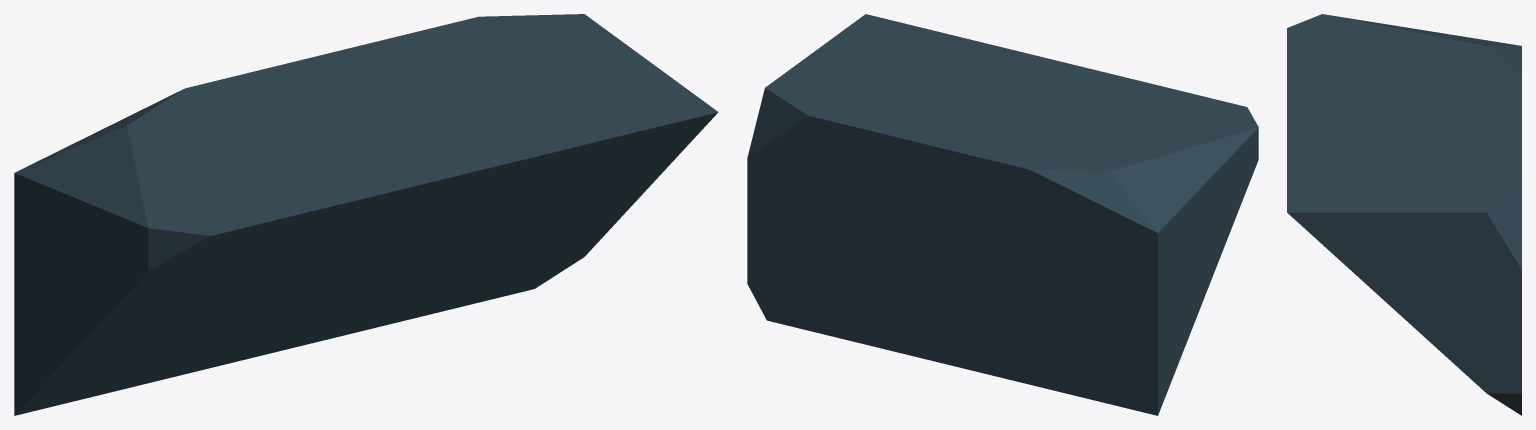
The model's file is ceiling_element_1x2.fbx.
The picture shows the model from 3 angles, left to right: view 1: azimuth 30°, elevation 25°; view 2: azimuth 150°, elevation 25°; view 3: azimuth 270°, elevation 25°; orthographic projection. The views are drawn at different scales.
Parts seen in each view (by area): view 1: ceiling_element_1x2; view 2: ceiling_element_1x2; view 3: ceiling_element_1x2.
Boxes of the visible parts, box(x1,y1,x2,y2) form: ceiling_element_1x2: box(14, 14, 718, 415); ceiling_element_1x2: box(747, 14, 1258, 415); ceiling_element_1x2: box(1287, 14, 1521, 415).
Size of the model in its own units: 200 by 100 by 100.
